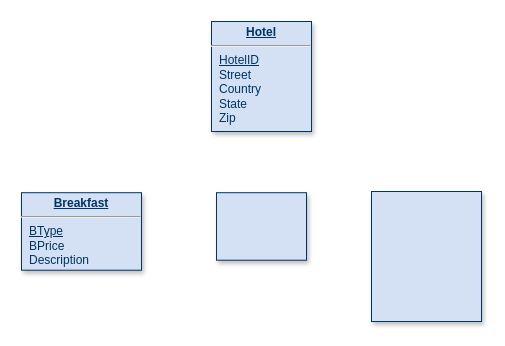
Some shapes in this 505 by 346 pixel diagram are drawn without their labels. The centre of each missing label's shape, as x and y in pixels:
"Room RNumber Price Floor Description Capacity RType" belongs at point (427, 257).
"Service SType SPrice" belongs at point (262, 227).
